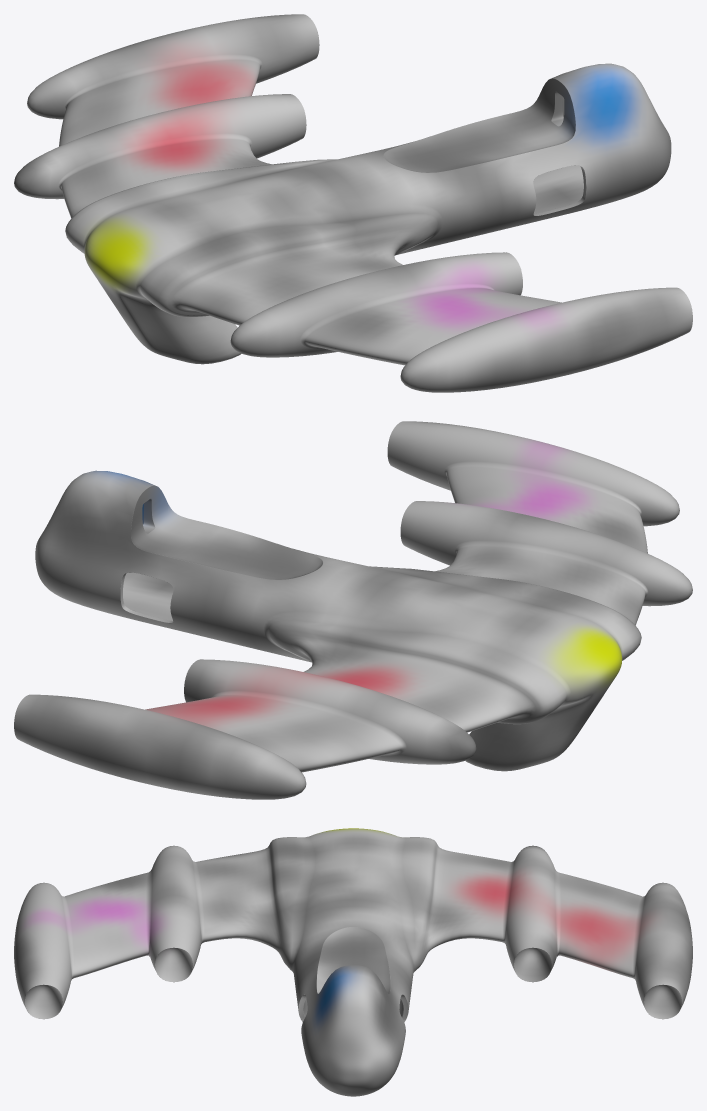
Rendered from Jet.gltf.
3 renders of one model, top to bottom at view 1: azimuth 30°, elevation 25°; view 2: azimuth 150°, elevation 25°; view 3: azimuth 270°, elevation 25°, orthographic. The views are drawn at different scales.
Parts seen in each view (by area): view 1: Fusion Item Mesh; view 2: Fusion Item Mesh; view 3: Fusion Item Mesh.
Boxes of the visible parts, x1,y1,x2,y2 form: Fusion Item Mesh: (14, 14, 692, 392); Fusion Item Mesh: (14, 421, 692, 799); Fusion Item Mesh: (14, 828, 692, 1096).
Bounding box in the file's own units: 8.83 × 2.93 × 11.01.
